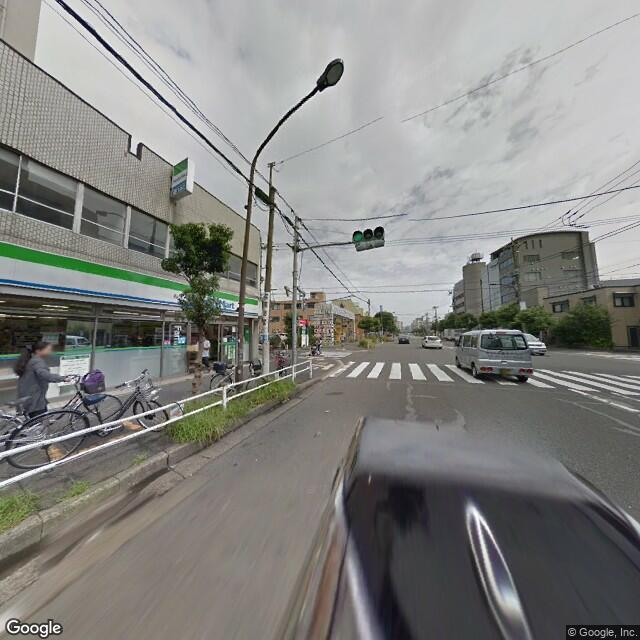family_mart: (2, 238, 259, 318), (170, 153, 192, 191)
